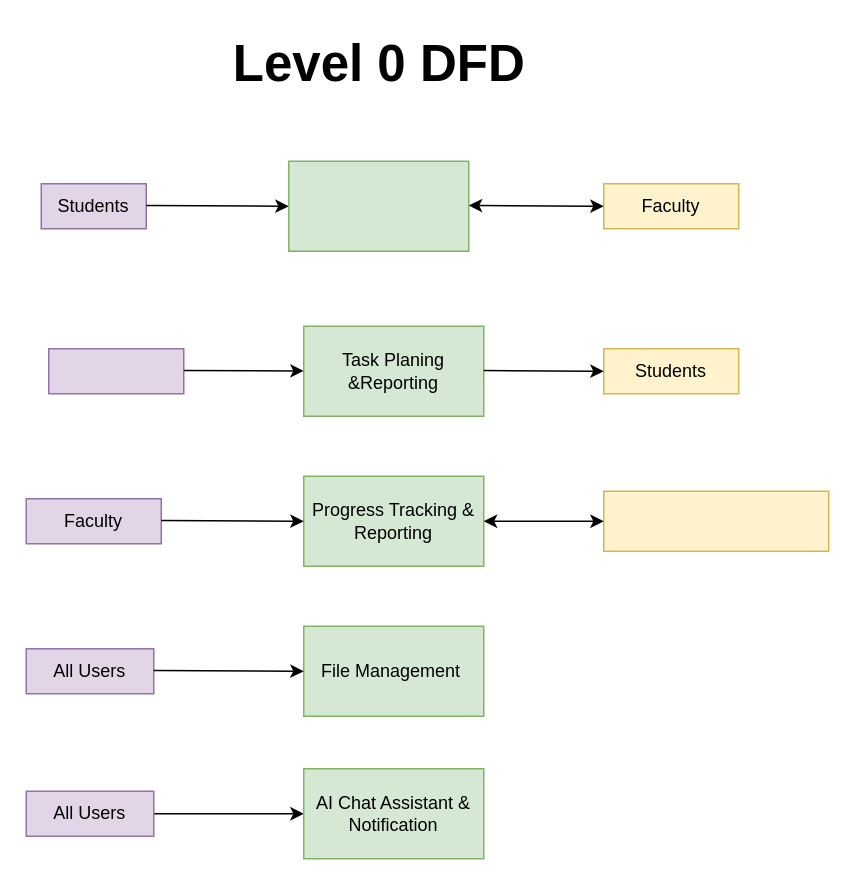
The diagram is 855 pixels wide and 885 high, and some of its shapes have lost their labels. The shapes that lost their labels are listed below. From the top down, each one's centre as x and y in pixels, then its label:
At [378,205]: "User Authentication".
At [115,370]: "Team Leaders".
At [715,520]: "Telegram Bot Interaction".
